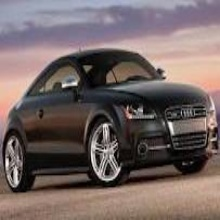no damage: (2, 48, 220, 193)
